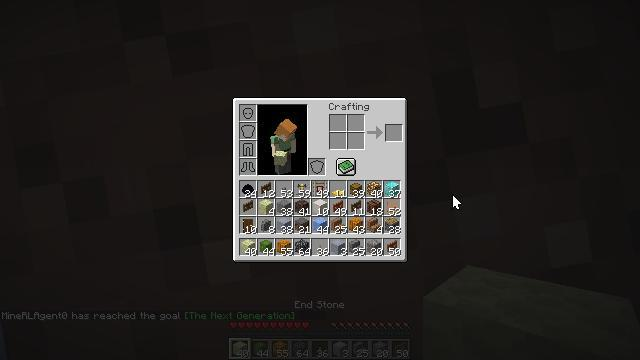cursor: (452, 194, 462, 210)
